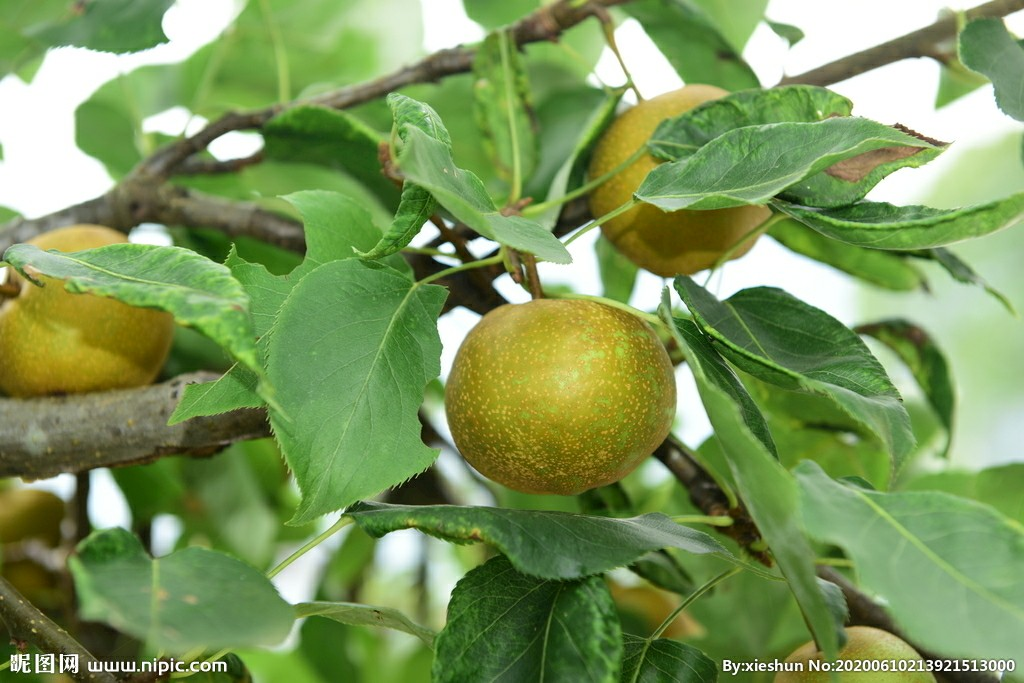pear: (444, 296, 677, 496), (590, 85, 772, 278), (1, 227, 175, 395)
